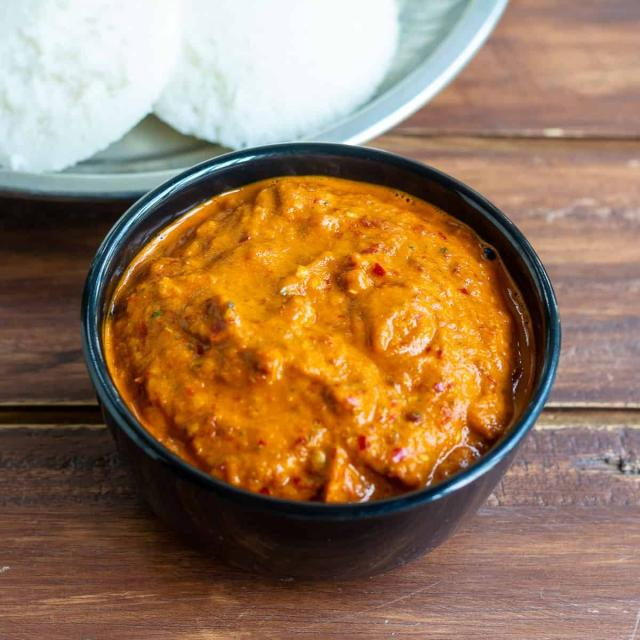kaara chutney: (108, 175, 557, 505)
